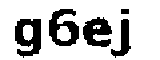6: (46, 5, 80, 52)
e: (83, 17, 112, 50)
g: (10, 15, 43, 60)
j: (110, 6, 136, 60)
